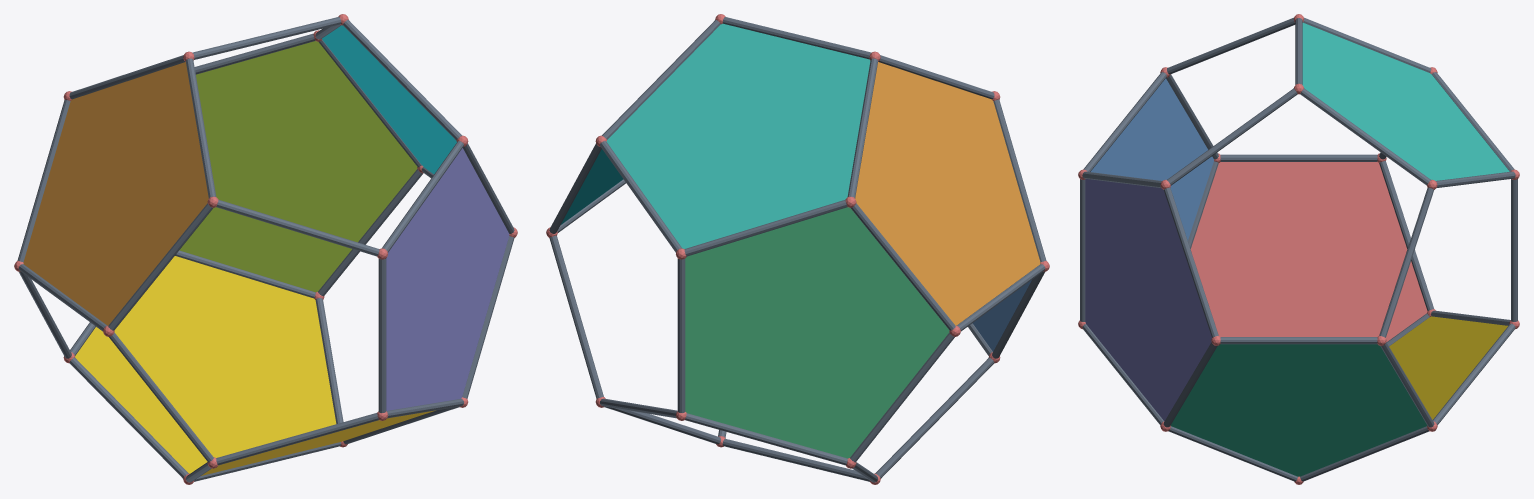
File: muoihimat.glb
3 views of the same model, side by side, from view 1: azimuth 30°, elevation 25°; view 2: azimuth 150°, elevation 25°; view 3: azimuth 270°, elevation 25° (orthographic). The views are drawn at different scales.
Parts seen in each view (by area): view 1: world; view 2: world; view 3: world.
Part boxes in pixels (x1,y1,x2,y2): world: (14,14,517,484); world: (546,14,1049,484); world: (1078,14,1519,484).
Size of the model in its own units: 0.7299 by 0.7299 by 0.7299.
